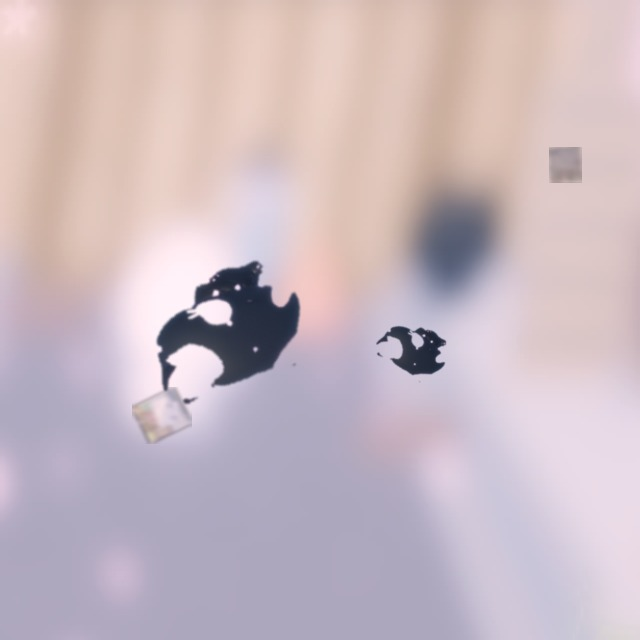urso_branco: (132, 387, 192, 444), (549, 147, 582, 183)
urso_preto: (100, 220, 354, 446), (358, 302, 468, 398)
